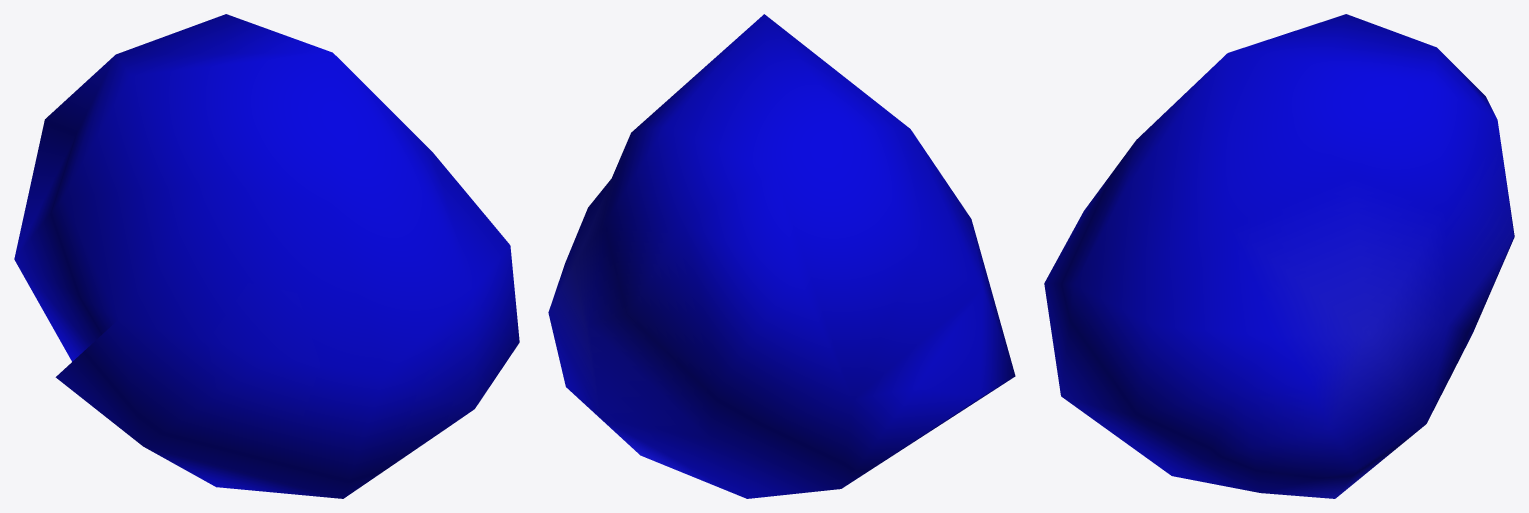
The model's file is rock1.fbx.
3 views of the same model, side by side, from view 1: azimuth 30°, elevation 25°; view 2: azimuth 150°, elevation 25°; view 3: azimuth 270°, elevation 25° (orthographic). The views are drawn at different scales.
Visible parts, largest first — view 1: Cube; view 2: Cube; view 3: Cube.
Boxes of the visible parts, x1,y1,x2,y2 form: Cube: [14, 14, 519, 498]; Cube: [548, 14, 1015, 498]; Cube: [1044, 14, 1514, 498].
Bounding box in the file's own units: 27.88 × 27.58 × 27.19.
